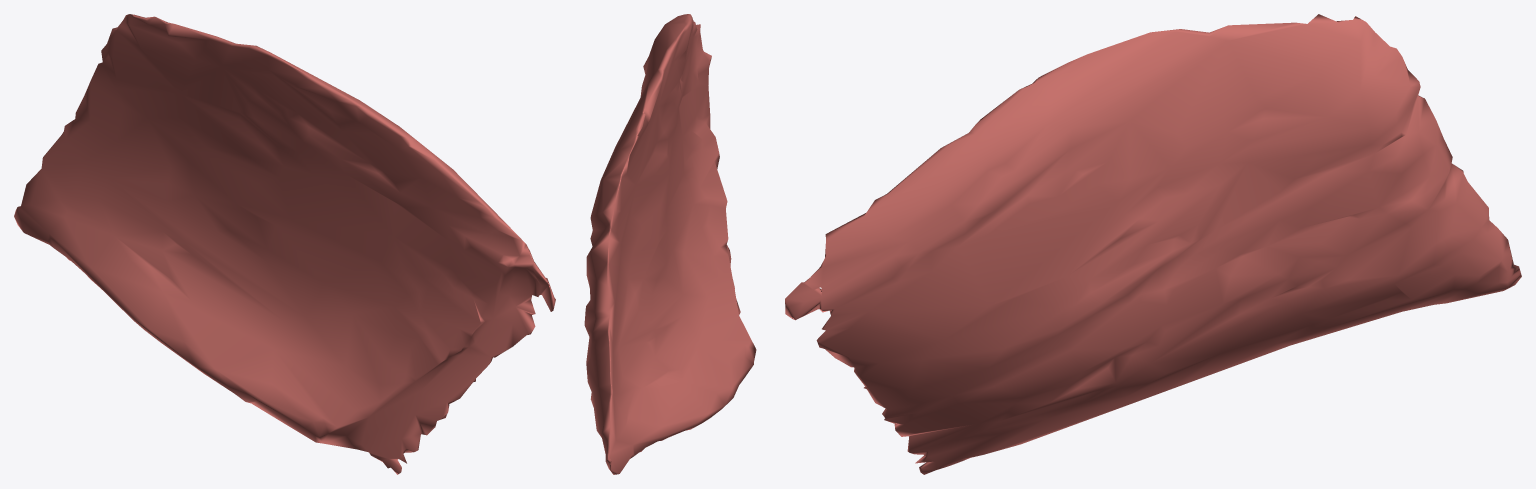
The picture shows the model from 3 angles, left to right: view 1: azimuth 30°, elevation 25°; view 2: azimuth 150°, elevation 25°; view 3: azimuth 270°, elevation 25°; orthographic projection. The views are drawn at different scales.
Parts seen in each view (by area): view 1: 左侧咬肌浅部; view 2: 左侧咬肌浅部; view 3: 左侧咬肌浅部.
Part boxes in pixels (x1=…): 左侧咬肌浅部: x1=14, y1=14, x2=555, y2=474; 左侧咬肌浅部: x1=584, y1=14, x2=756, y2=474; 左侧咬肌浅部: x1=785, y1=14, x2=1521, y2=474.
Size of the model in its own units: 0.0392 by 0.0582 by 0.0915.
